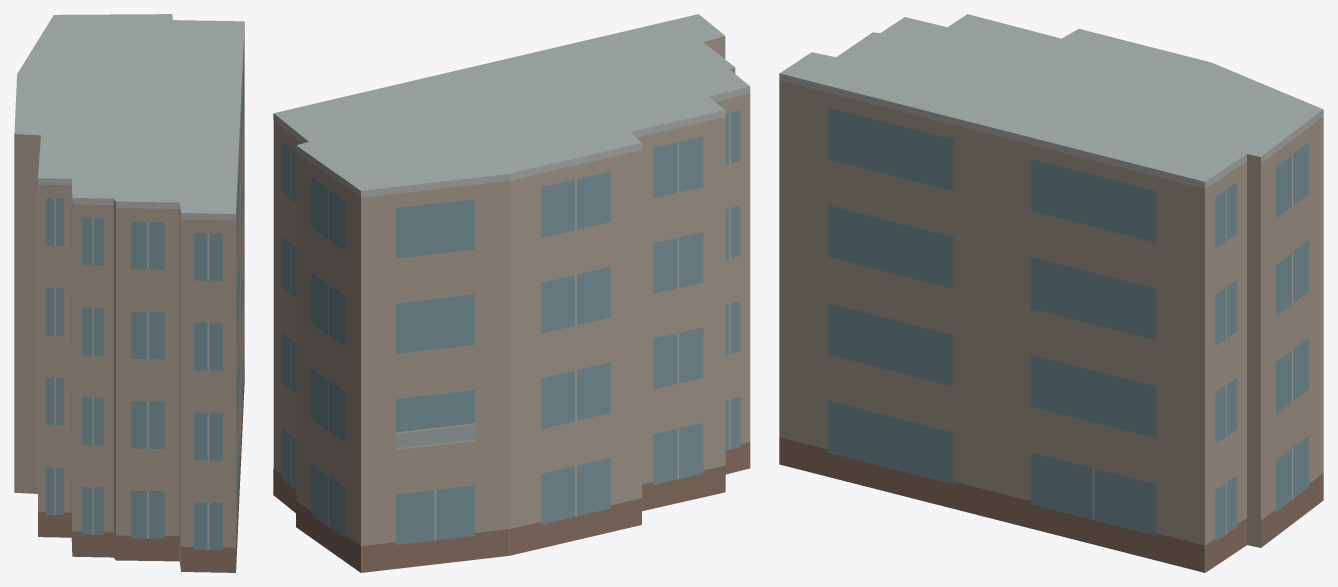
The model's file is survey-upis-32614645.glb.
The picture shows the model from 3 angles, left to right: view 1: azimuth 30°, elevation 25°; view 2: azimuth 150°, elevation 25°; view 3: azimuth 270°, elevation 25°; orthographic projection. The views are drawn at different scales.
Visible parts, largest first — view 1: survey-upis-32614645.tmp; view 2: survey-upis-32614645.tmp; view 3: survey-upis-32614645.tmp.
Boxes of the visible parts, bbox=[...] form: survey-upis-32614645.tmp: bbox=[14, 14, 244, 572]; survey-upis-32614645.tmp: bbox=[273, 14, 750, 572]; survey-upis-32614645.tmp: bbox=[779, 14, 1323, 572].
Size of the model in its own units: 12.32 by 13.37 by 16.87.
